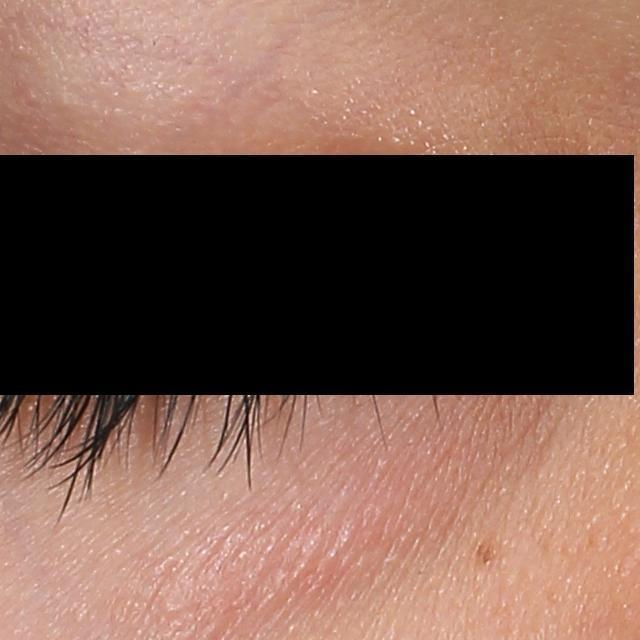nevus: (475, 539, 496, 567)
